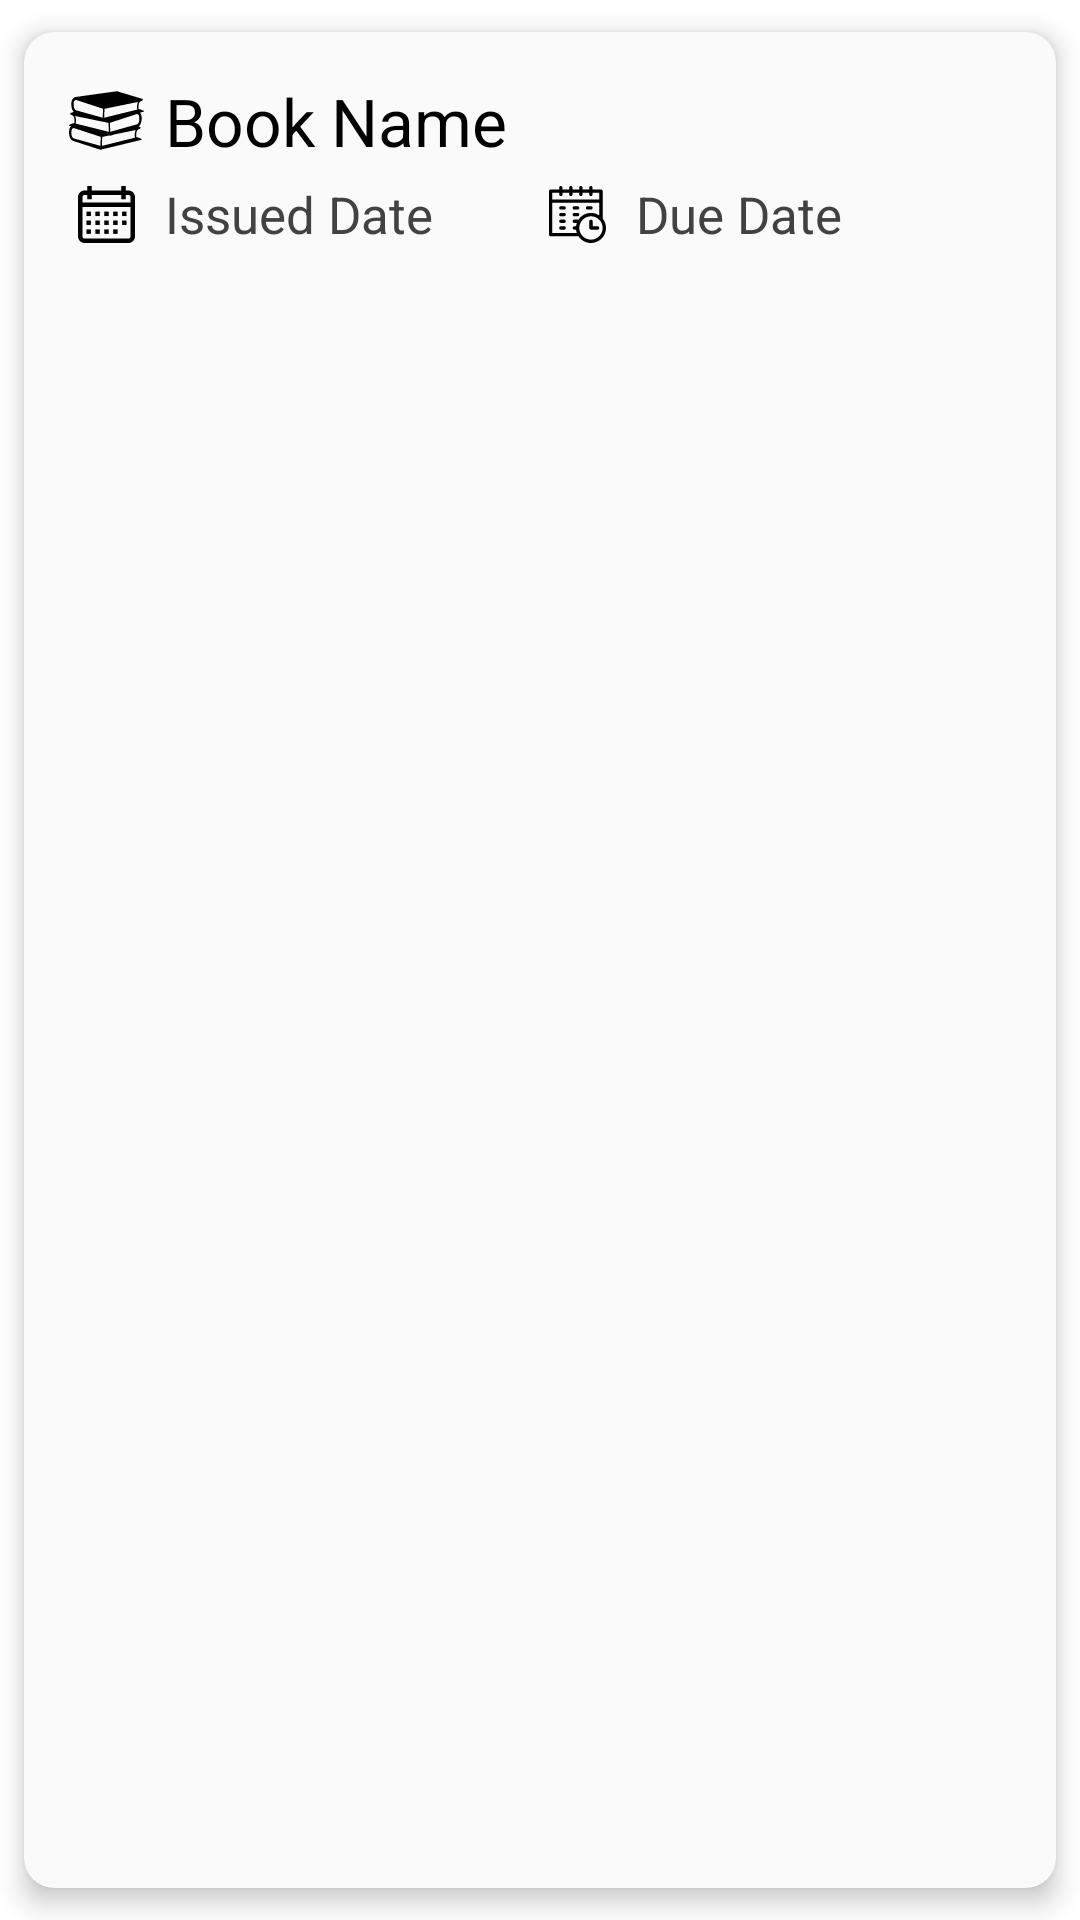

Locate icon controls on the screen. Image size 1080w x 1920h, boxes as detection(x1, y1, x2, y2).
books stack of three: detection(69, 91, 144, 150)
calendar: detection(78, 186, 135, 243)
timetable: detection(549, 186, 606, 243)
